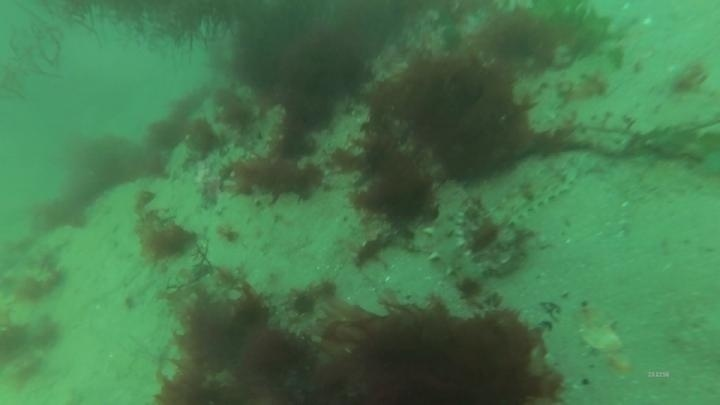holothurian: (423, 186, 489, 291), (483, 169, 579, 228)
